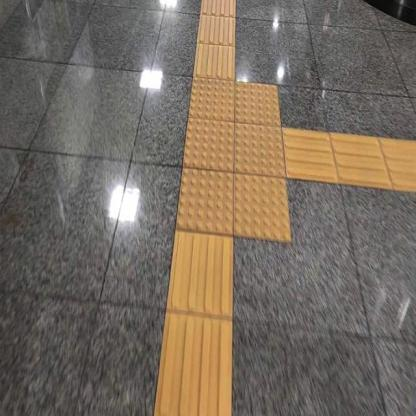podotacti: (158, 57, 306, 267), (154, 238, 238, 415), (288, 123, 416, 193), (192, 0, 237, 77)
